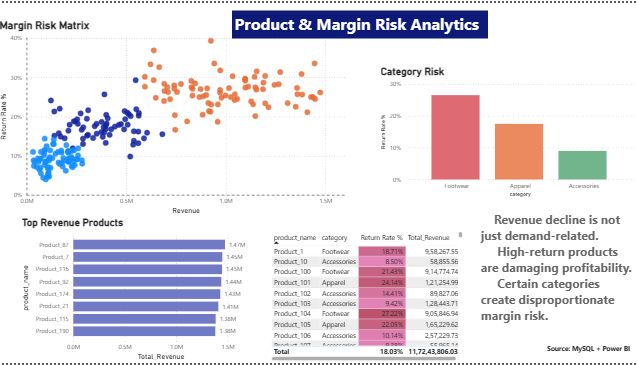

Layout of this report page (visuals, bound fields, positions):
{"tool":"powerbi","page":{"name":"Page 2","canvas":[1280,720],"ordinal":1},"visuals":[{"type":"scatterChart","title":"Margin Risk Matrix","fields":{"X":["Measures Table.Total_Revenue"],"Size":["Sum(vw_product_metrics.units_sold)"],"Category":["products.product_name"],"Series":["products.category"],"Y":["Measures Table.Return Rate %"]},"box":[0,32,716,396],"z":0},{"type":"barChart","title":"Top Revenue Products","fields":{"Category":["products.product_name"],"Y":["Measures Table.Total_Revenue"]},"box":[44,428,478,292],"z":1000},{"type":"clusteredColumnChart","title":"Category Risk","fields":{"Category":["products.category"],"Y":["Measures Table.return_rate %"]},"box":[762,124,518,268],"z":2000},{"type":"tableEx","fields":{"Values":["products.product_name","products.category","Measures Table.Return Rate %","Measures Table.Total_Revenue"]},"box":[542,452,394,268],"z":3000},{"type":"textbox","box":[962,412,318,244],"z":4000},{"type":"textbox","box":[470,14,512,56],"z":5000},{"type":"textbox","box":[1094,678,186,42],"z":6000}]}

Visuals, with their boxes in screenshot pixels (x1, y1, x2, y2), scaled from the page's 1280x720 canvas onto the 637x365 screenshot:
"Margin Risk Matrix" scatterChart: 0 16 356 217
"Top Revenue Products" barChart: 22 217 260 364
"Category Risk" clusteredColumnChart: 379 63 636 199
tableEx - products.product_name x products.category: 270 229 466 364
textbox: 479 209 636 333
textbox: 234 7 489 35
textbox: 544 344 636 364
